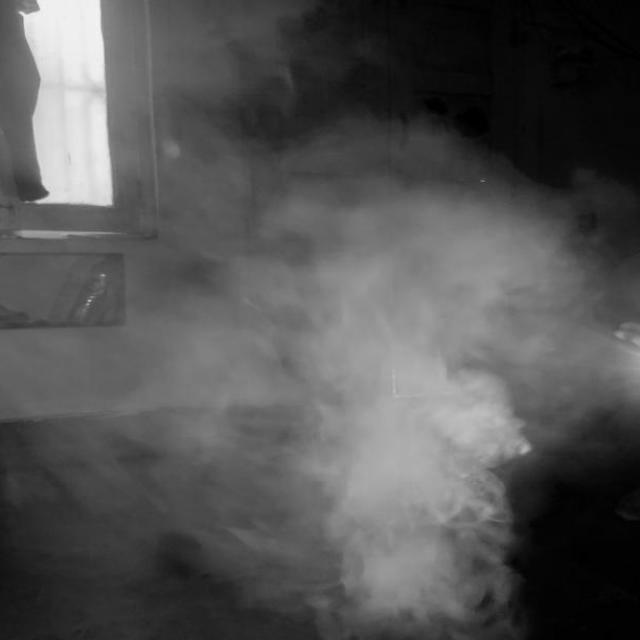fire: (107, 97, 617, 640)
